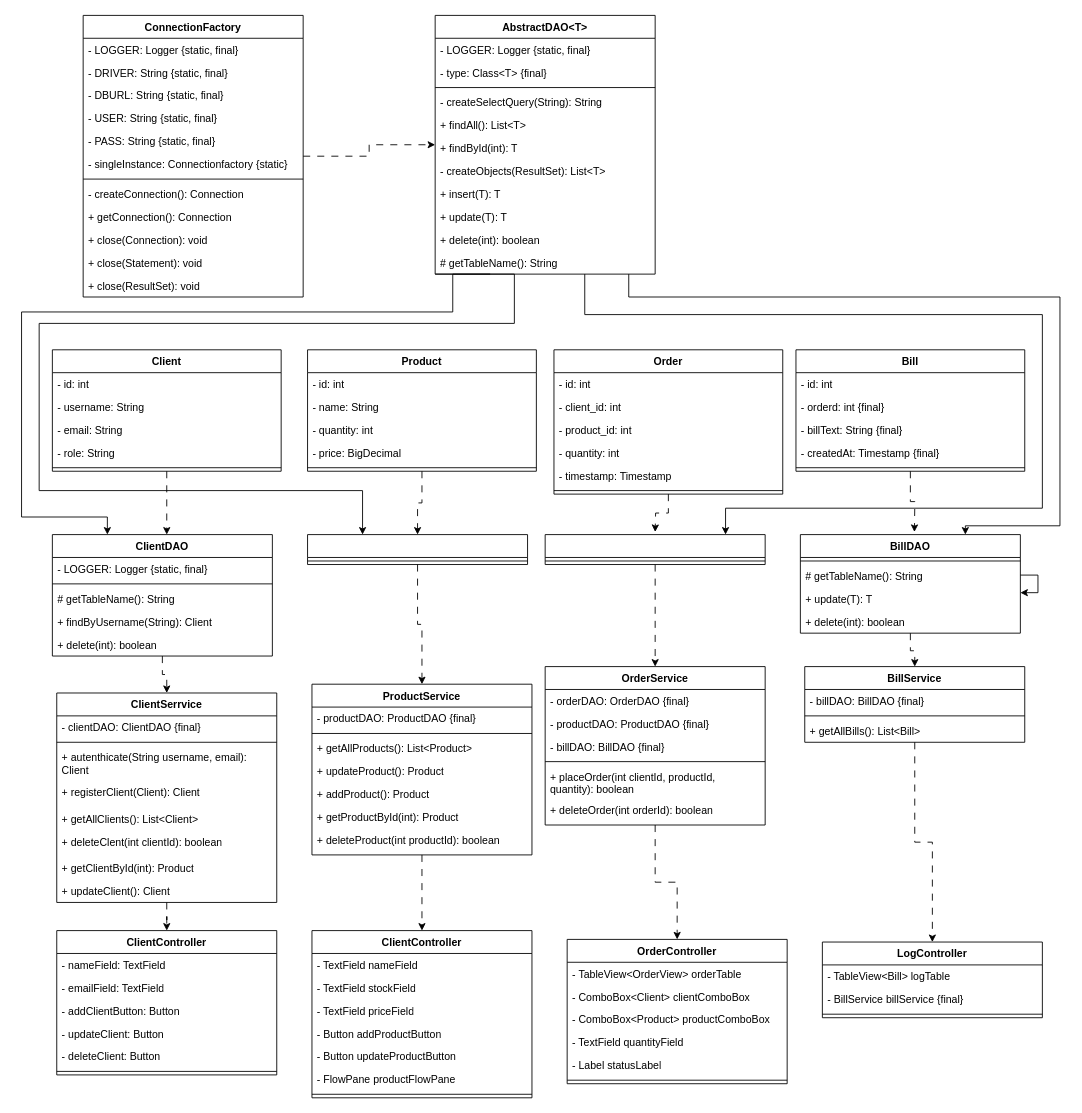
Some shapes in this 1082 by 1113 pixel diagram are drawn without their labels. The shapes that lost their labels are listed below. From the top down, each one's centre as x and y in pixels, then its label:
At (417,549): "ProductDAO".
At (654,549): "OrderDAO".
